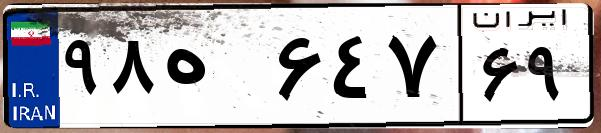4: (330, 28, 385, 110)
6: (270, 28, 330, 110), (475, 38, 525, 113)
7: (385, 28, 445, 110)
8: (110, 28, 158, 98)
9: (57, 26, 110, 100), (525, 38, 570, 115)
ه: (158, 20, 270, 120)
